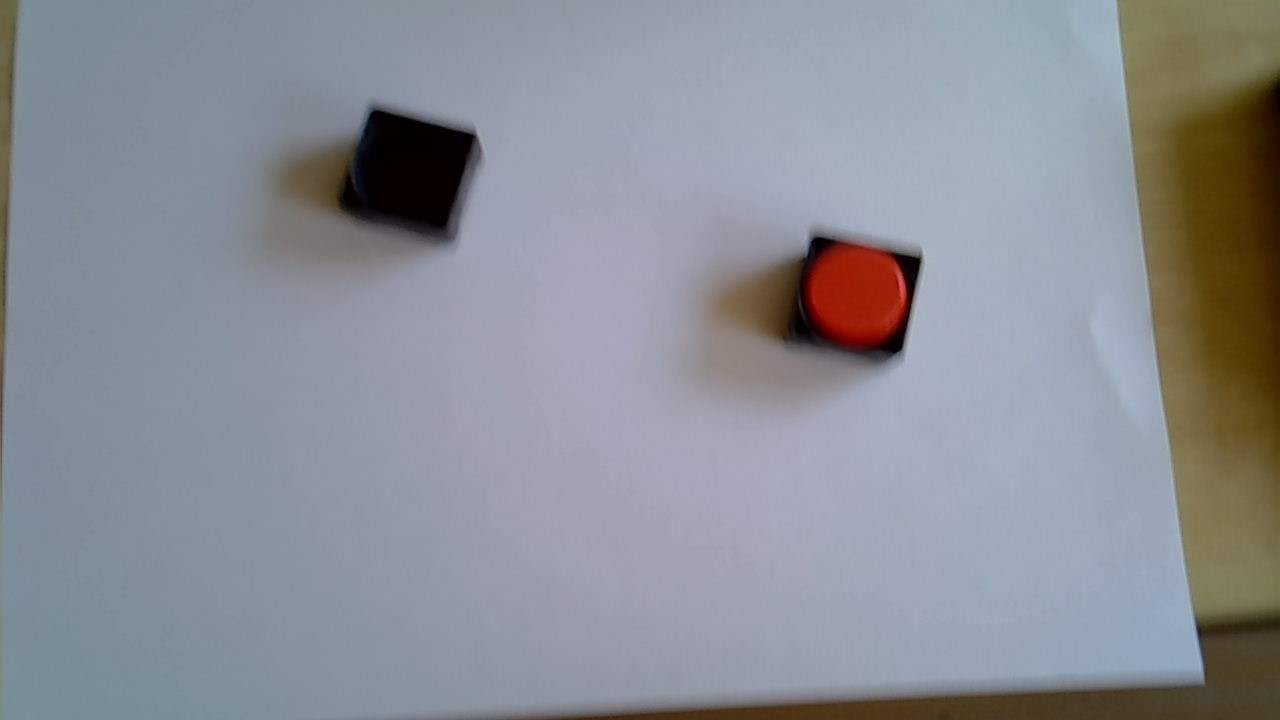Behaelter: (336, 105, 483, 242), (786, 232, 921, 365)
WerkStueck: (807, 244, 907, 345)
